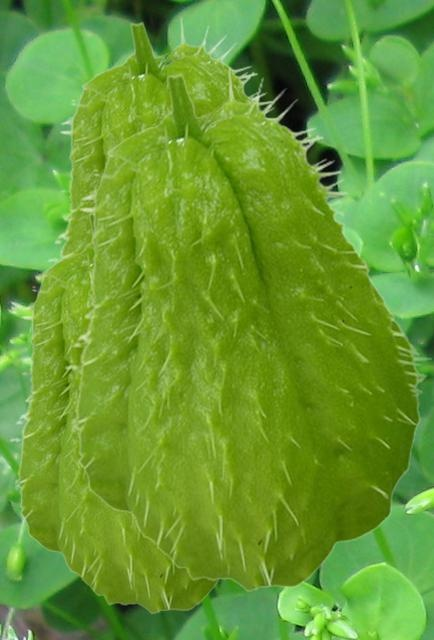sayote: (64, 66, 430, 591), (9, 214, 221, 613), (47, 16, 277, 264)
